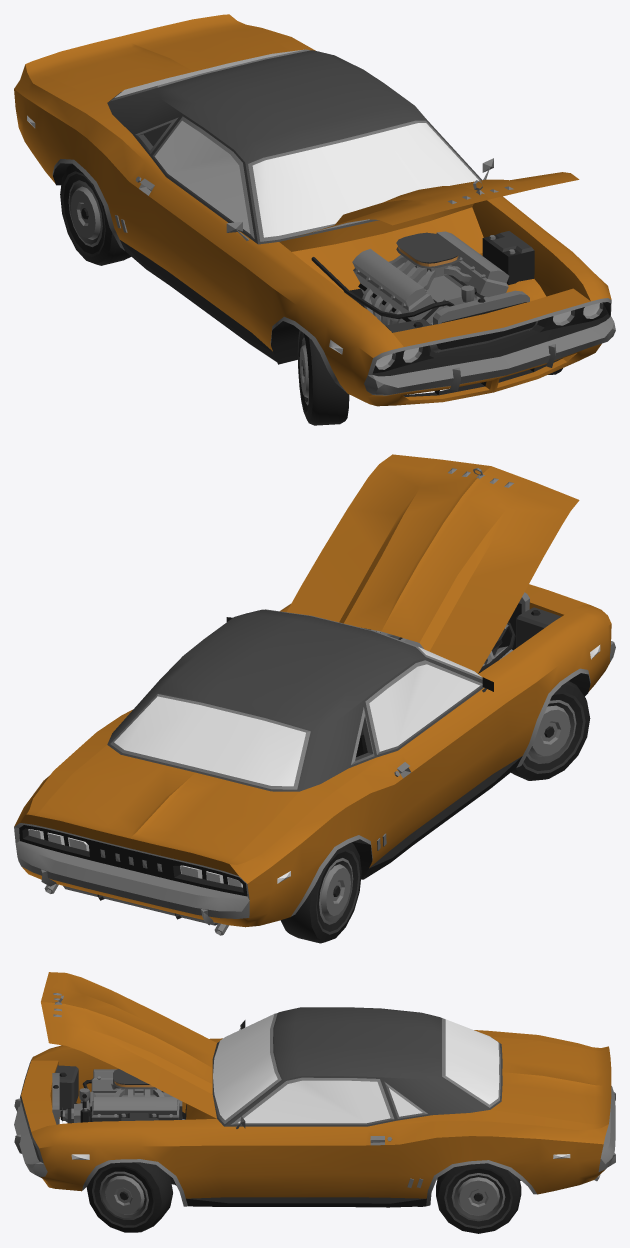
The model's file is car-muscle-coupe-hoodup.glb.
3 views of the same model, one above another, from view 1: azimuth 30°, elevation 25°; view 2: azimuth 150°, elevation 25°; view 3: azimuth 270°, elevation 25° (orthographic). The views are drawn at different scales.
Parts seen in each view (by area): view 1: Body, Trunk, Engine, Hood, Wheel RR, Engine_Details, Wheel FR, Cables; view 2: Body, Hood, Trunk, Wheel RR, Wheel FR, Engine_Details, Chassis; view 3: Body, Hood, Trunk, Wheel FL, Wheel RL, Engine, Engine_Details.
Part boxes in pixels (x1=…): Body: x1=14, y1=14, x2=615, y2=406; Trunk: x1=32, y1=15, x2=290, y2=102; Engine: x1=352, y1=231, x2=509, y2=325; Hood: x1=290, y1=172, x2=579, y2=238; Wheel RR: x1=60, y1=163, x2=131, y2=265; Engine_Details: x1=386, y1=231, x2=534, y2=352; Wheel FR: x1=297, y1=330, x2=349, y2=425; Cables: x1=311, y1=257, x2=454, y2=318; Body: x1=14, y1=584, x2=615, y2=927; Hood: x1=287, y1=454, x2=579, y2=673; Trunk: x1=32, y1=745, x2=298, y2=870; Wheel RR: x1=280, y1=842, x2=361, y2=943; Wheel FR: x1=511, y1=681, x2=590, y2=780; Engine_Details: x1=498, y1=592, x2=561, y2=650; Chassis: x1=44, y1=884, x2=228, y2=935; Body: x1=14, y1=1007, x2=615, y2=1207; Hood: x1=41, y1=972, x2=216, y2=1118; Trunk: x1=490, y1=1036, x2=611, y2=1124; Wheel FL: x1=86, y1=1162, x2=172, y2=1232; Wheel RL: x1=436, y1=1163, x2=521, y2=1233; Engine: x1=60, y1=1069, x2=182, y2=1123; Engine_Details: x1=52, y1=1065, x2=158, y2=1124.
Bounding box in the file's own units: 2.01 × 1.72 × 4.86.
